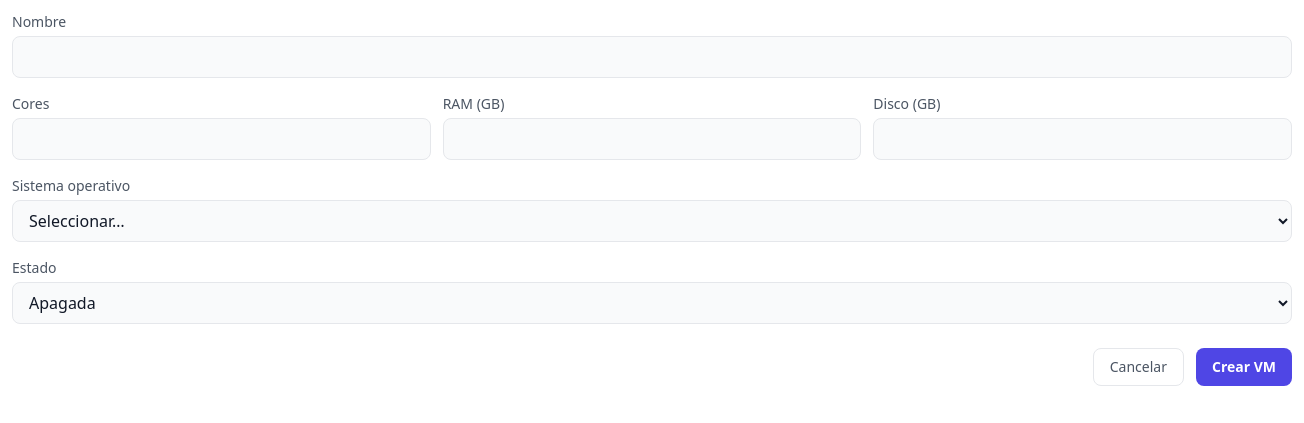
Test case: VMForm — validaciones (SDD §14.2) › muestra error cuando no se selecciona SO al perder foco
Click the dropdown labelled "Sistema operativo": (652, 221) [12,200,1292,242]
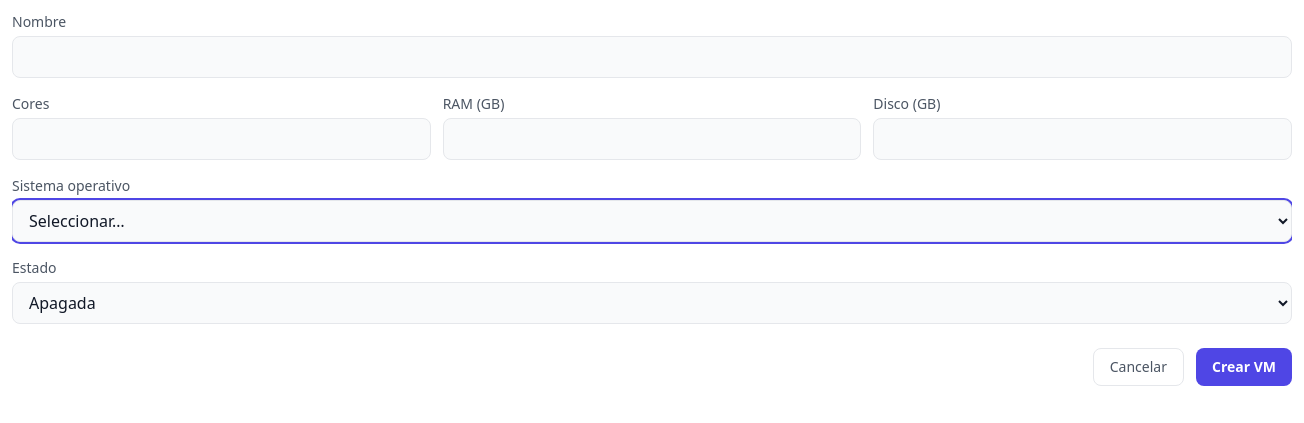
Press Tab
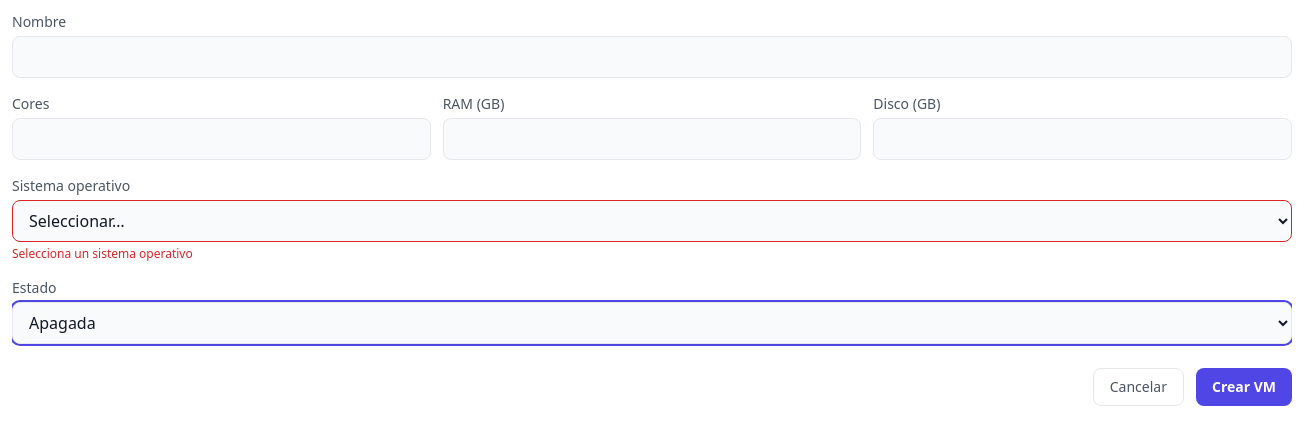
expect the text "Selecciona un sistema operativo" is shown: met, box [12,245,193,262]
